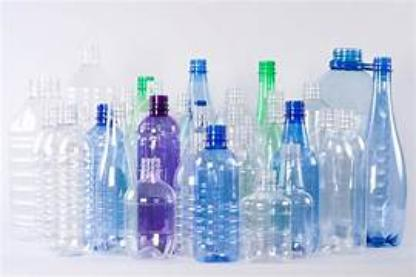Plastic Bottle: (5, 49, 411, 264)
